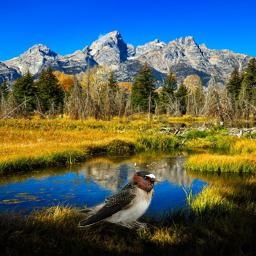Swallow: (76, 168, 160, 230)
